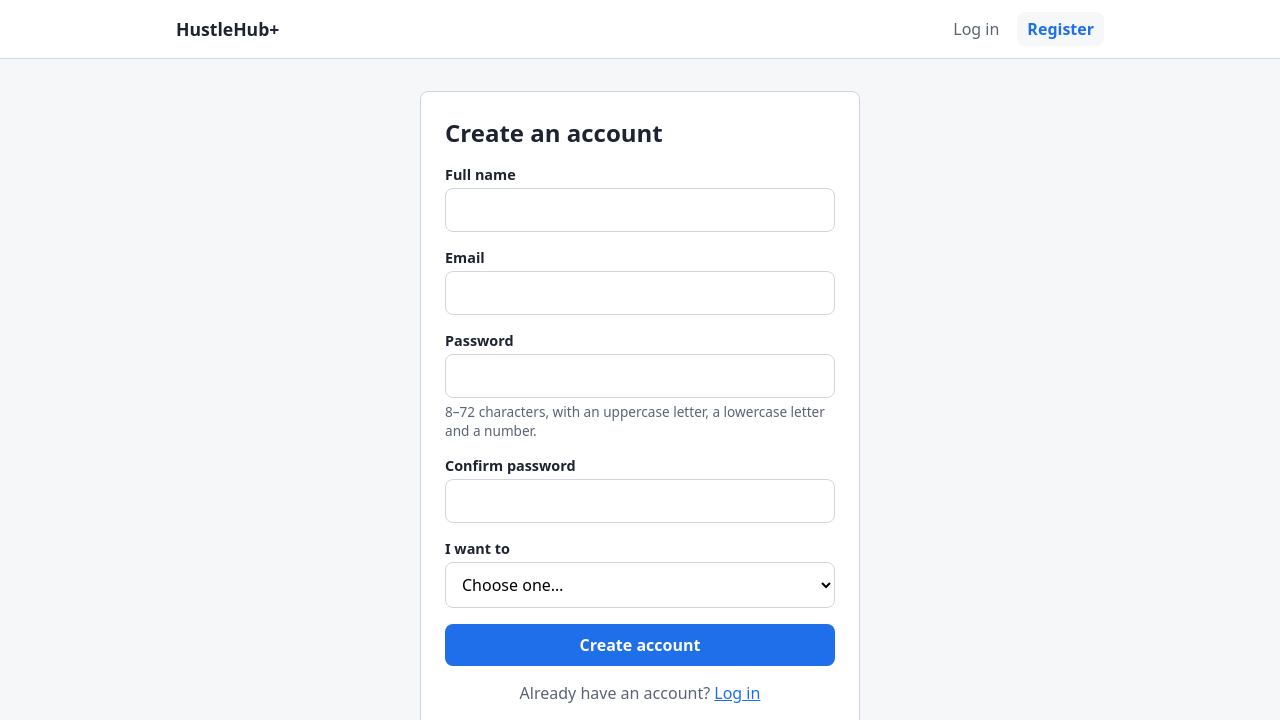
Scenario: RegisterPage › sends the registration and redirects to log in
In the field labelled "Full name": coordinates (640, 210) [445,188,835,232], type "Thandi Mokoena"
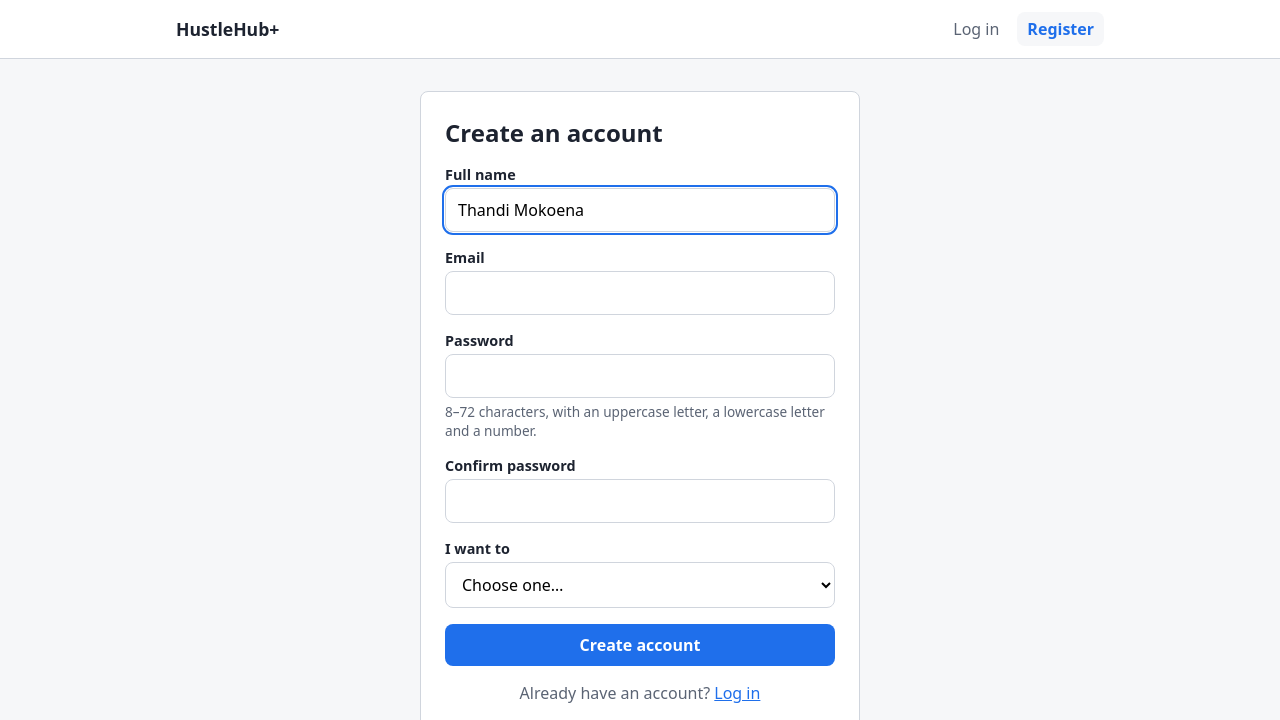
In the field labelled "Email": coordinates (640, 293) [445,271,835,315], type "thandi@example.com"
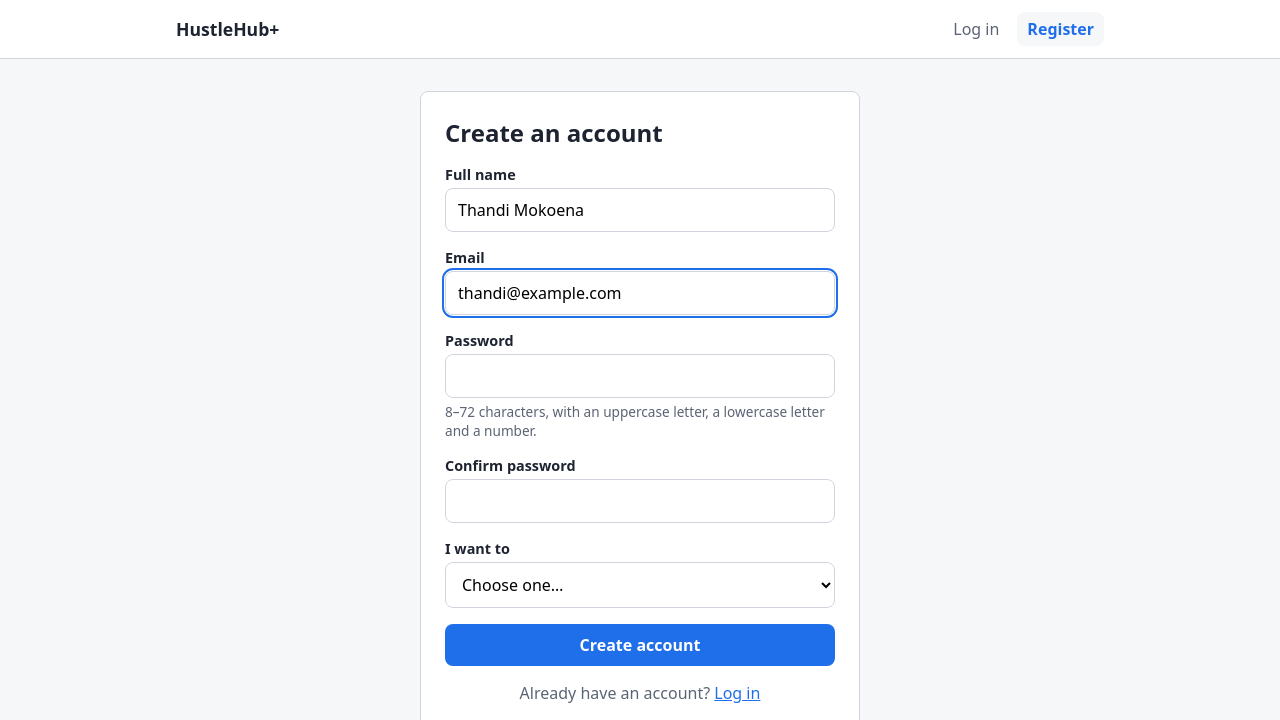
In the password field labelled "Password": coordinates (640, 376) [445,354,835,398], type "Secure123"
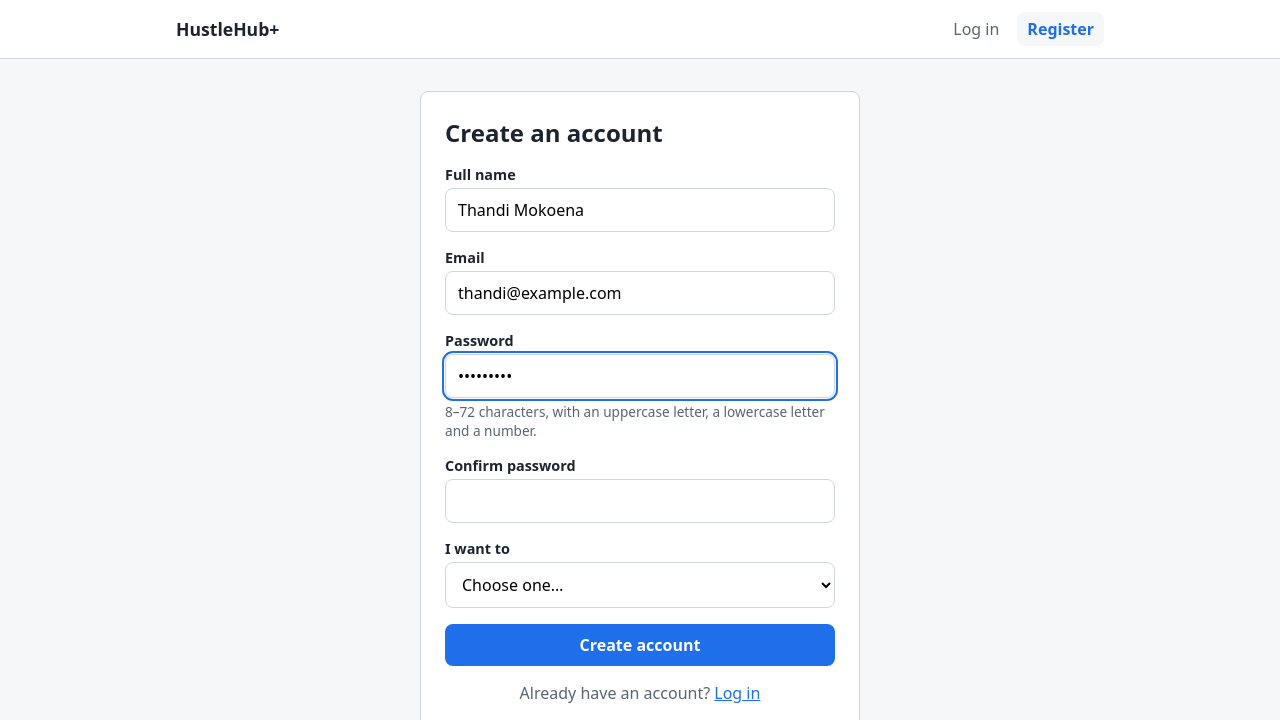
In the password field labelled "Confirm password": coordinates (640, 501) [445,479,835,523], type "Secure123"
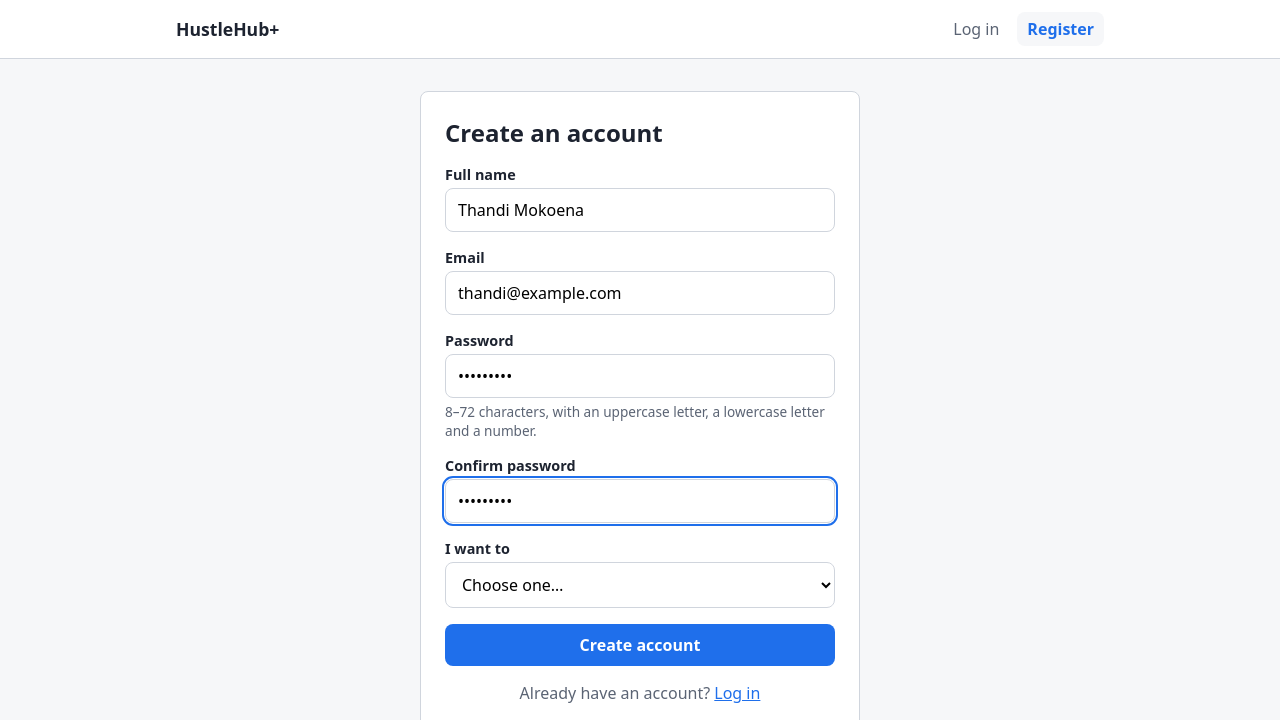
Select "Hire freelancers (client)" in the dropdown labelled "I want to": coordinates (640, 585) [445,562,835,608]
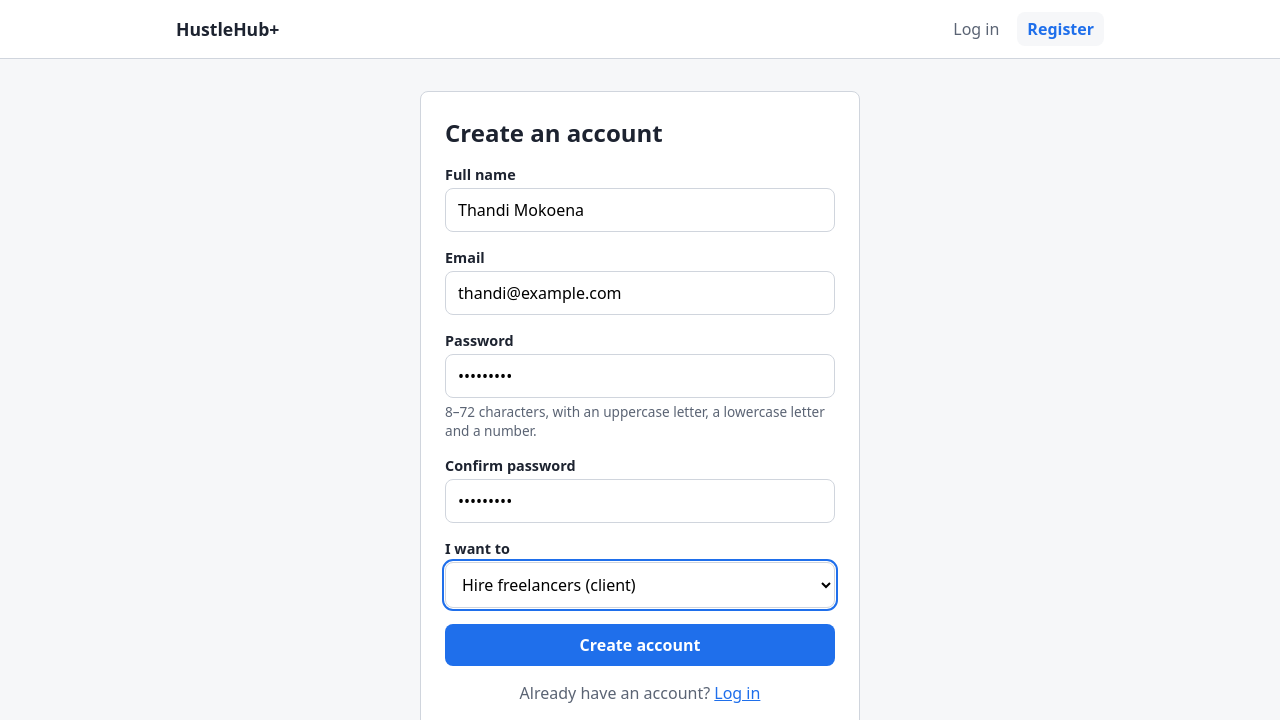
Click the button "Create account": coordinates (640, 645) [445,624,835,666]
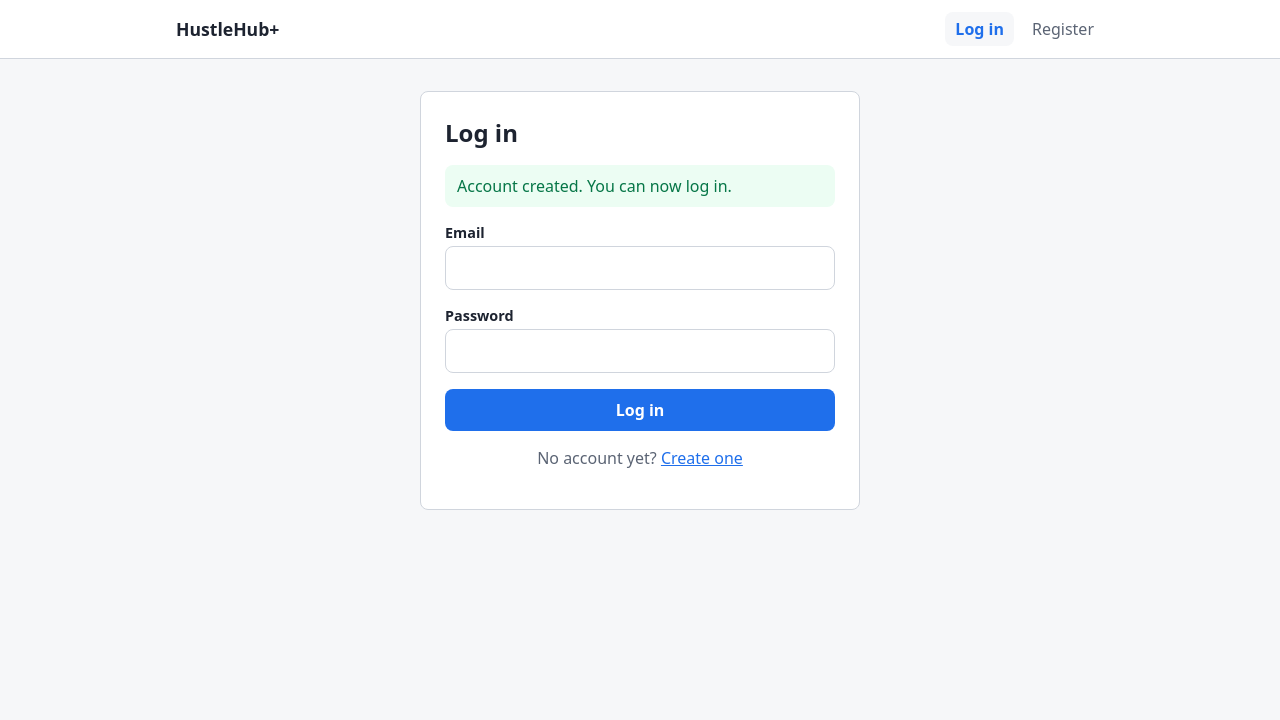
Expected: the text "Account created. You can now log in." is shown, [445,165,835,207]
